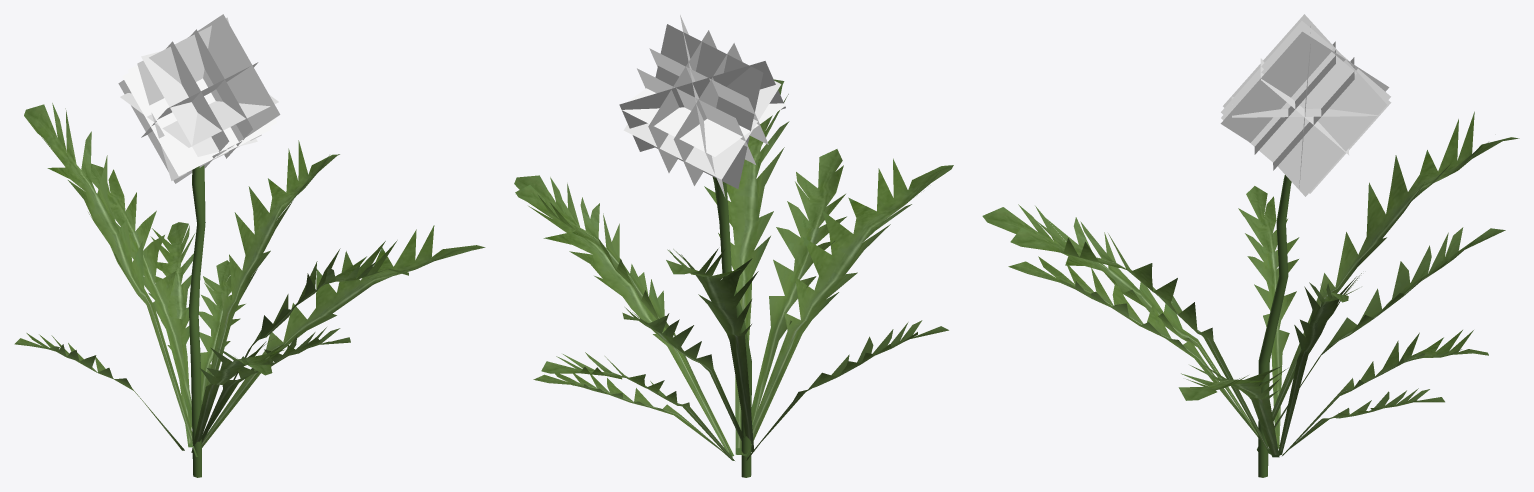
File: dandelion_01_lod1.gltf
3 views of the same model, side by side, from view 1: azimuth 30°, elevation 25°; view 2: azimuth 150°, elevation 25°; view 3: azimuth 270°, elevation 25° (orthographic). The views are drawn at different scales.
Visible parts, largest first — view 1: Dandelion 01; view 2: Dandelion 01; view 3: Dandelion 01.
Boxes of the visible parts, x1,y1,x2,y2 form: Dandelion 01: (14, 14, 485, 477); Dandelion 01: (514, 15, 953, 477); Dandelion 01: (982, 14, 1519, 477).
Bounding box in the file's own units: 0.2879 × 0.274 × 0.2855.
Materials: 3 (1 with a texture image).
